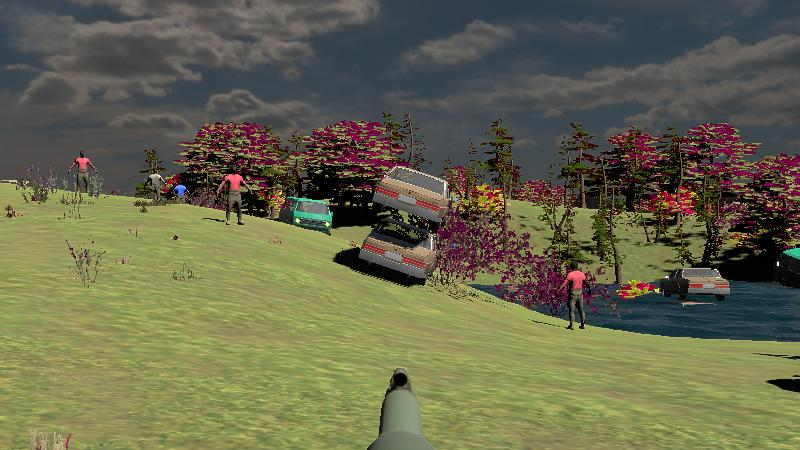Human: (558, 260, 591, 330), (218, 164, 253, 225), (68, 149, 96, 203)
car: (371, 166, 452, 230), (357, 222, 436, 286), (659, 266, 730, 302), (279, 195, 333, 236), (774, 245, 800, 292)
